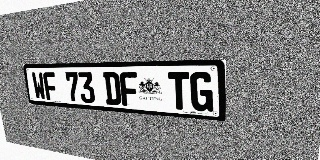3: (78, 72, 96, 104)
7: (64, 72, 81, 102)
D: (103, 72, 122, 105)
F: (119, 72, 139, 107), (42, 72, 58, 101)
G: (190, 72, 213, 112)
T: (168, 72, 190, 110)
W: (31, 72, 47, 100)
